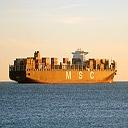Ships: (8, 49, 118, 83)
